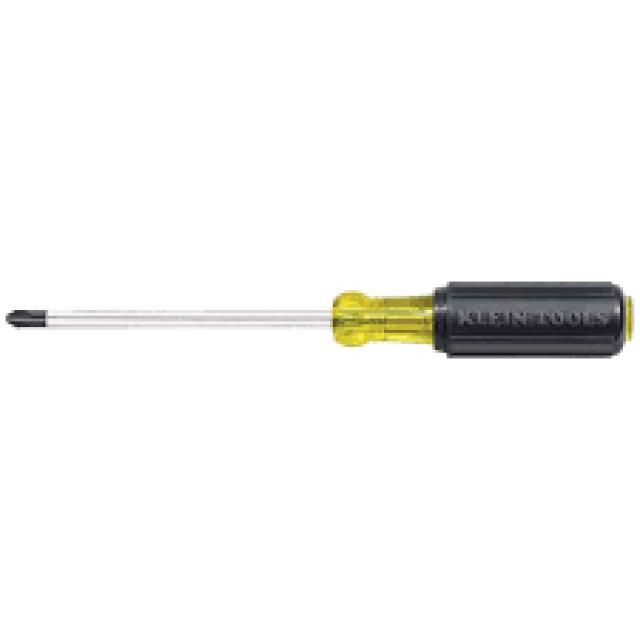Screwdriver: (6, 281, 632, 356)
